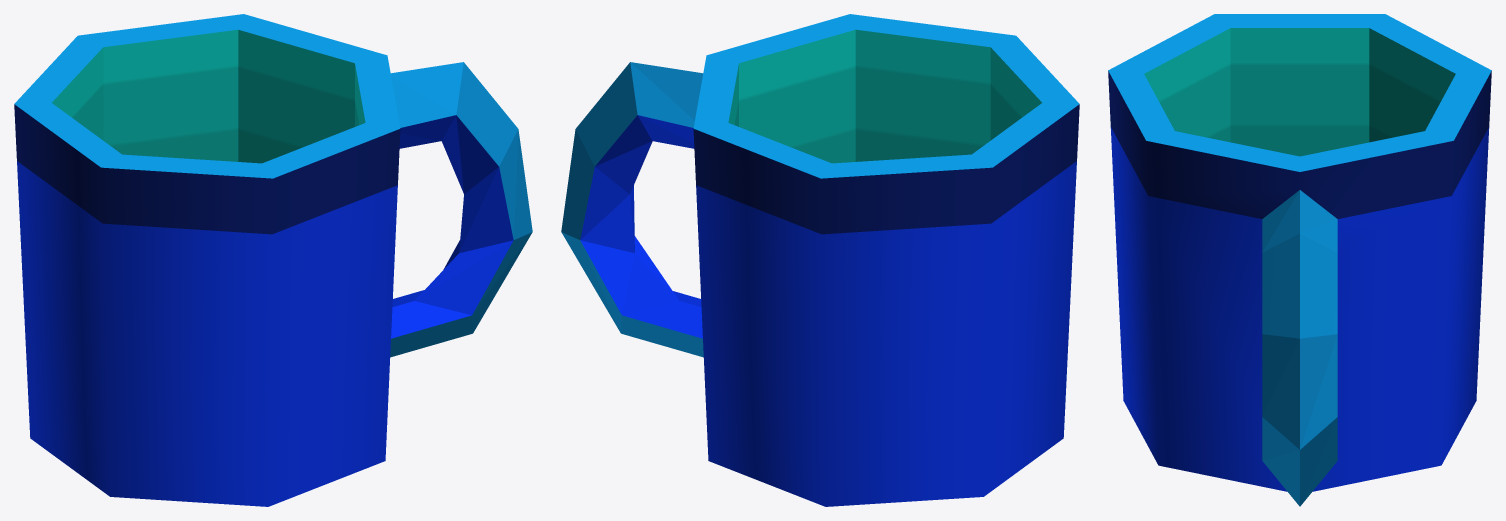
Rendered from Mug2.fbx.
3 renders of one model, left to right at view 1: azimuth 30°, elevation 25°; view 2: azimuth 150°, elevation 25°; view 3: azimuth 270°, elevation 25°, orthographic.
Parts seen in each view (by area): view 1: Mug2; view 2: Mug2; view 3: Mug2.
Boxes of the visible parts, x1=… form: Mug2: x1=14, y1=14, x2=532, y2=506; Mug2: x1=561, y1=14, x2=1079, y2=506; Mug2: x1=1108, y1=14, x2=1491, y2=506.
Bounding box in the file's own units: 15.2 × 10.24 × 10.82.
